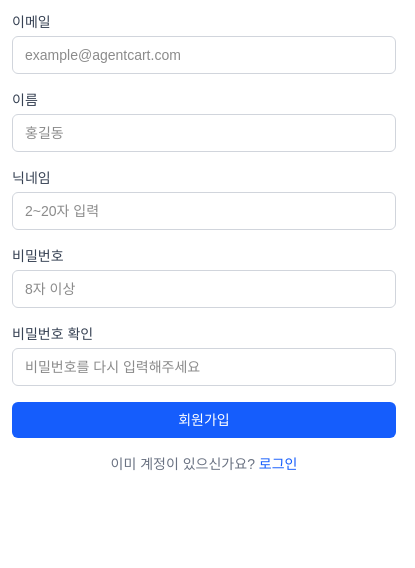
RegisterForm › 빈 폼 제출 시 필수 입력 에러 메시지를 표시한다
Click the button "회원가입" at (204, 420), box [12, 402, 396, 438]
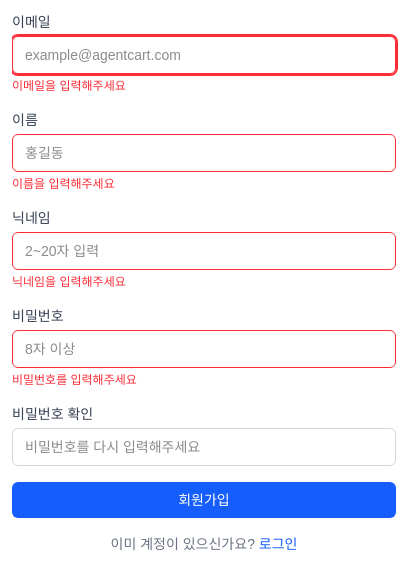
Expected: the text "이메일을 입력해주세요" is shown, [12, 79, 126, 93]
Expected: the text "이름을 입력해주세요" is shown, [12, 177, 115, 191]
Expected: the text "닉네임을 입력해주세요" is shown, [12, 275, 126, 289]
